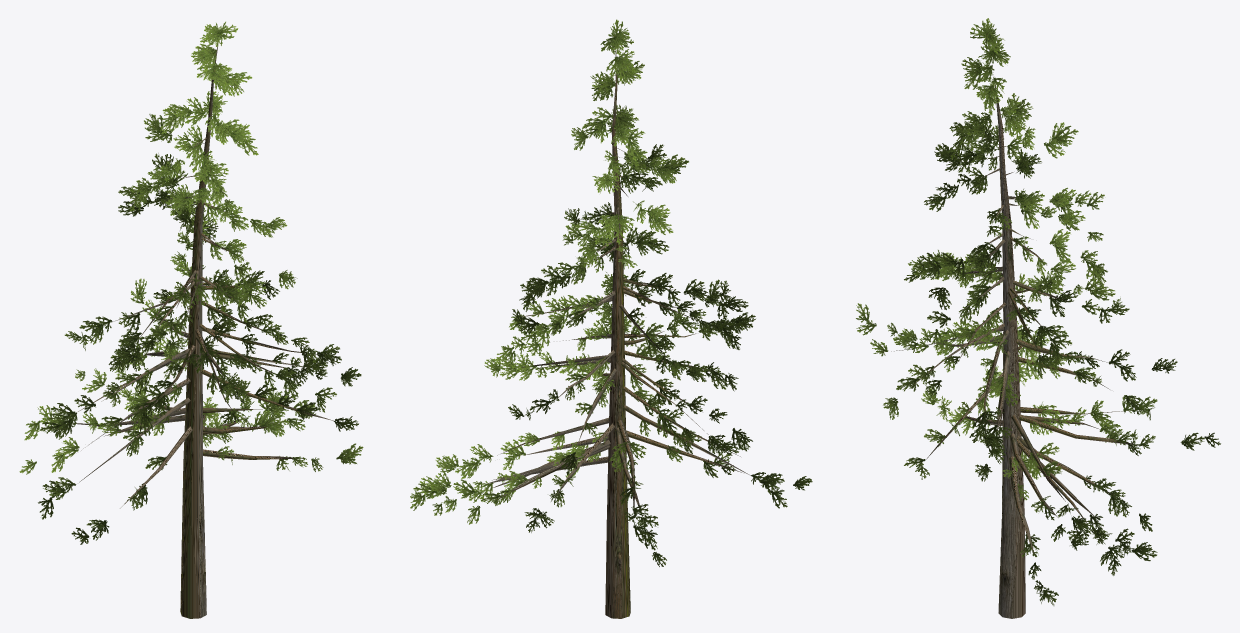
Rendered from pine-mid.glb.
3 views of the same model, side by side, from view 1: azimuth 30°, elevation 25°; view 2: azimuth 150°, elevation 25°; view 3: azimuth 270°, elevation 25° (orthographic). The views are drawn at different scales.
Visible parts, largest first — view 1: pine-leaves, pine-bark; view 2: pine-leaves, pine-bark; view 3: pine-leaves, pine-bark.
Part boxes in pixels (x1,y1,x2,y2): pine-leaves: [19, 21, 363, 544]; pine-bark: [72, 44, 333, 618]; pine-leaves: [410, 19, 812, 566]; pine-bark: [486, 49, 749, 618]; pine-leaves: [856, 18, 1220, 605]; pine-bark: [891, 62, 1141, 618].
Size of the model in its own units: 7.85 by 12.45 by 7.1.
Materials: 2 (2 with a texture image).
